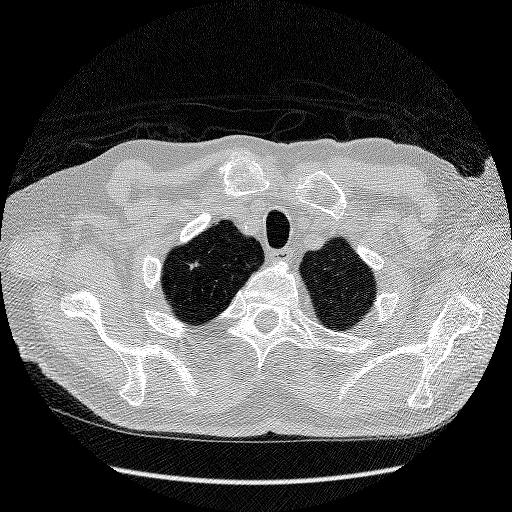nodule: (187, 259, 200, 272)
